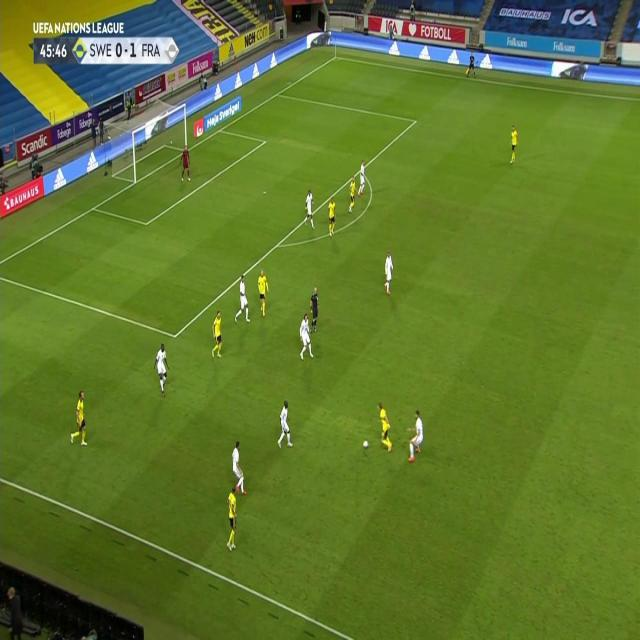ball: (362, 440, 370, 450)
player: (70, 390, 90, 450), (406, 409, 424, 463), (153, 342, 170, 398), (375, 402, 393, 453), (231, 442, 247, 497), (227, 485, 239, 553), (234, 275, 250, 325), (278, 399, 294, 448), (298, 314, 314, 359), (256, 268, 270, 318), (303, 189, 317, 232), (212, 311, 224, 360), (383, 250, 395, 296), (310, 284, 320, 330), (180, 144, 192, 182), (347, 176, 358, 215), (326, 197, 336, 239), (509, 124, 519, 166), (465, 52, 477, 79), (358, 159, 366, 197)
